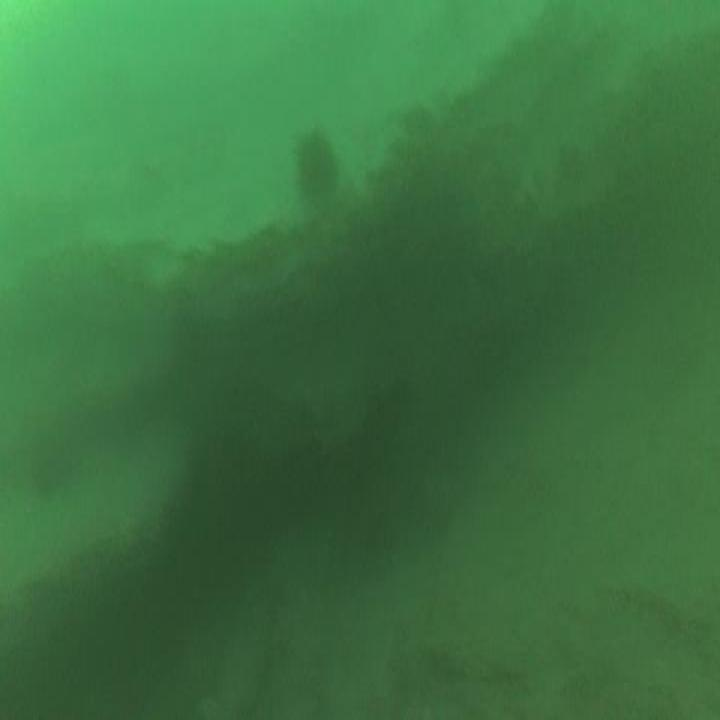echinus: (293, 123, 339, 213)
